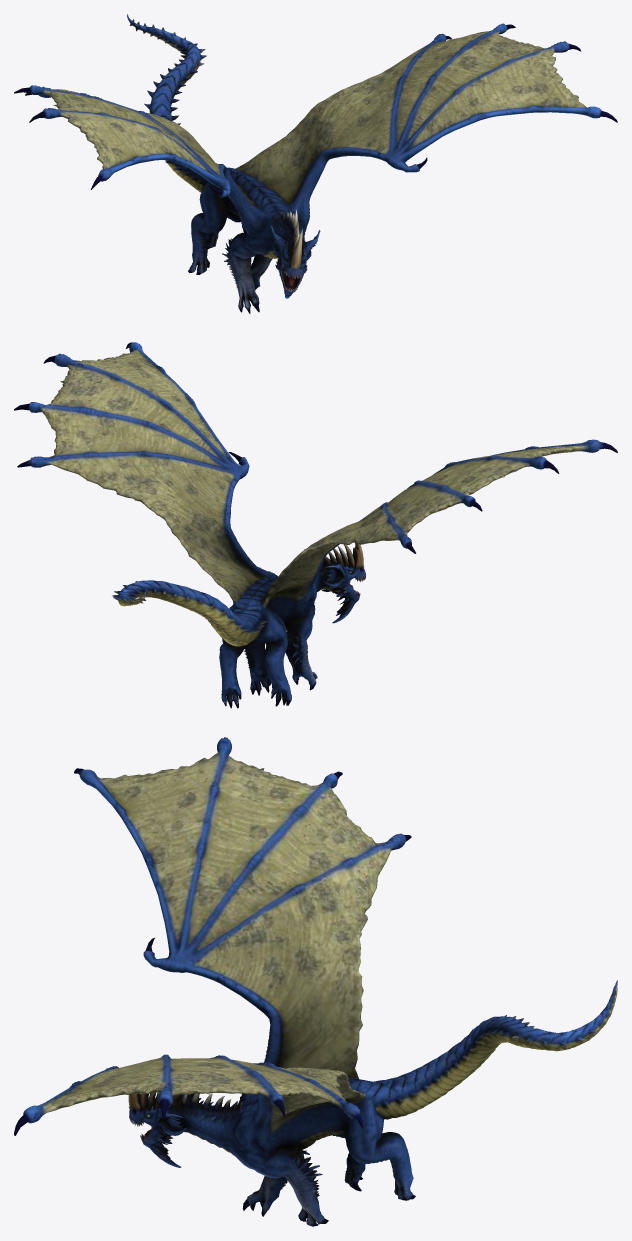
The model's file is MZ4250 - Dragon Blue Greatwyrm.glb.
The picture shows the model from 3 angles, top to bottom: view 1: azimuth 30°, elevation 25°; view 2: azimuth 150°, elevation 25°; view 3: azimuth 270°, elevation 25°; orthographic projection. The views are drawn at different scales.
Visible parts, largest first — view 1: Head Base Sphere.001; view 2: Head Base Sphere.001; view 3: Head Base Sphere.001.
Boxes of the visible parts, <box> form: Head Base Sphere.001: <box>14,14,617,313</box>; Head Base Sphere.001: <box>14,342,617,708</box>; Head Base Sphere.001: <box>14,737,617,1226</box>.
Size of the model in its own units: 9.96 by 4.81 by 7.74.
1 material, 1 textured.
